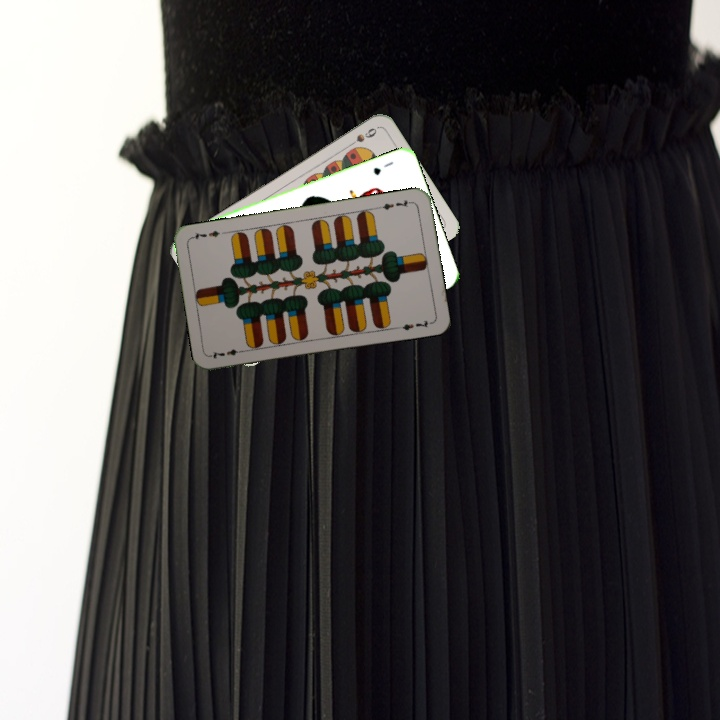E7: (374, 195, 415, 213), (207, 345, 248, 361)
GU: (369, 157, 396, 177)
S9: (343, 124, 380, 150)
